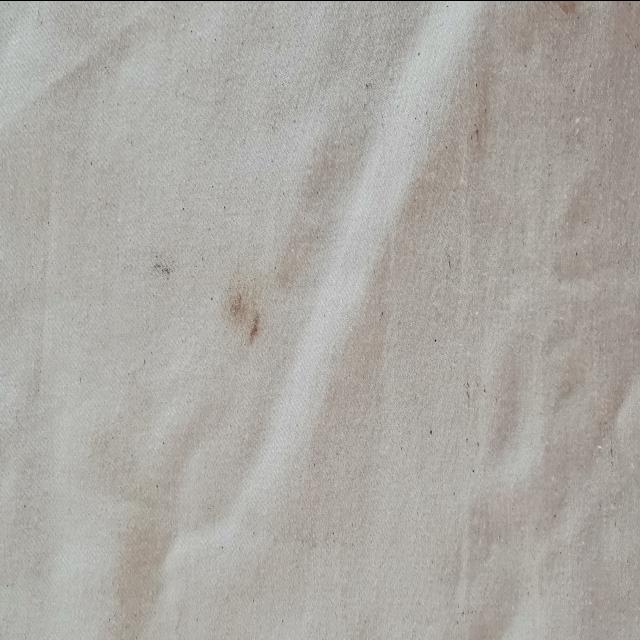taaaches: (218, 272, 266, 370), (532, 0, 586, 39)
